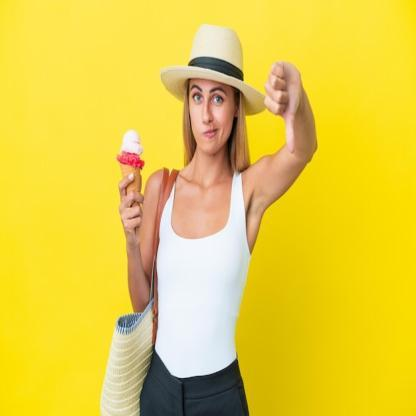thumb_down: (262, 53, 302, 156)
